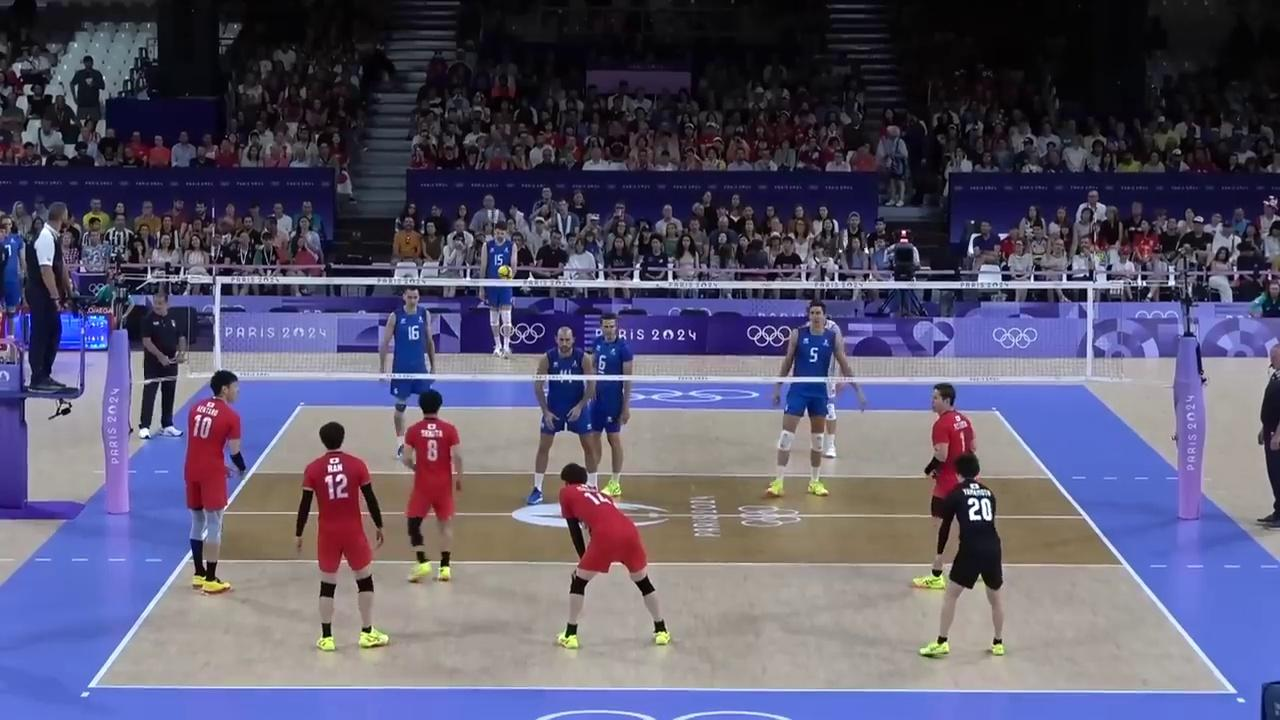ball: (498, 264, 513, 279)
